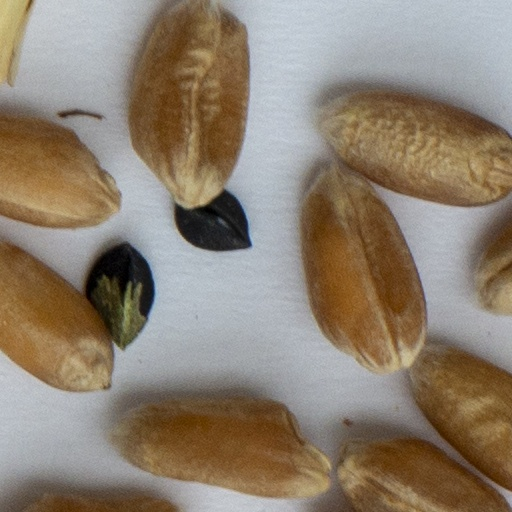Fallopia-Convolvulus-poly: (82, 238, 157, 351), (169, 189, 263, 259)
